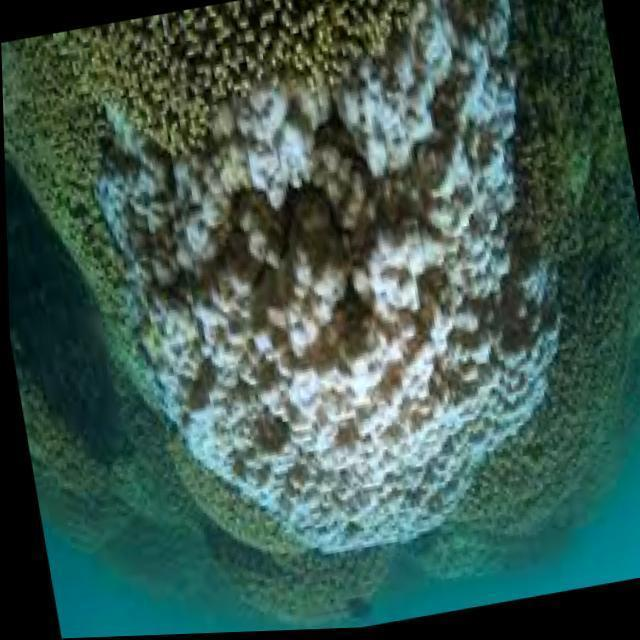Dead Coral: (494, 0, 640, 396), (35, 0, 431, 110)
